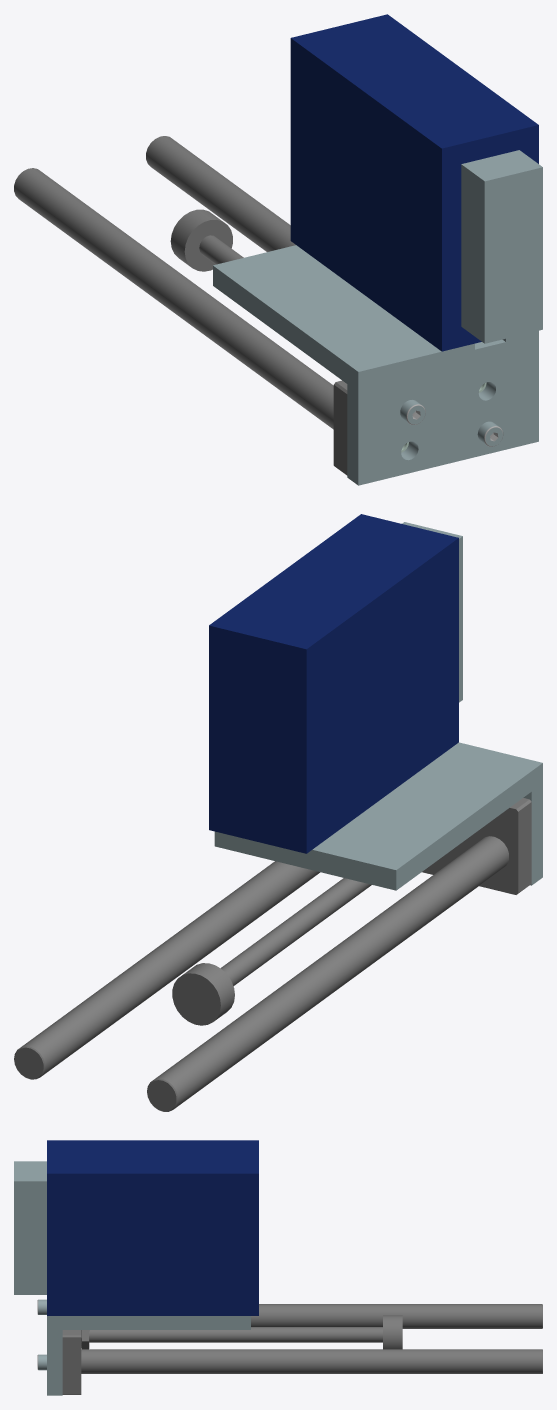
Rendered from Slinding.obj.
3 renders of one model, top to bottom at view 1: azimuth 30°, elevation 25°; view 2: azimuth 150°, elevation 25°; view 3: azimuth 270°, elevation 25°, orthographic. The views are drawn at different scales.
Parts seen in each view (by area): view 1: 0000_ClampingSystem_Slinding_0000_ClampingSystem.001_ClampingSys; view 2: 0000_ClampingSystem_Slinding_0000_ClampingSystem.001_ClampingSys; view 3: 0000_ClampingSystem_Slinding_0000_ClampingSystem.001_ClampingSys.
Part boxes in pixels (x1,y1,x2,y2): 0000_ClampingSystem_Slinding_0000_ClampingSystem.001_ClampingSys: (14,14,542,485); 0000_ClampingSystem_Slinding_0000_ClampingSystem.001_ClampingSys: (14,514,542,1111); 0000_ClampingSystem_Slinding_0000_ClampingSystem.001_ClampingSys: (14,1140,542,1395).
Bounding box in the file's own units: 0.465 × 0.7803 × 1.68.
